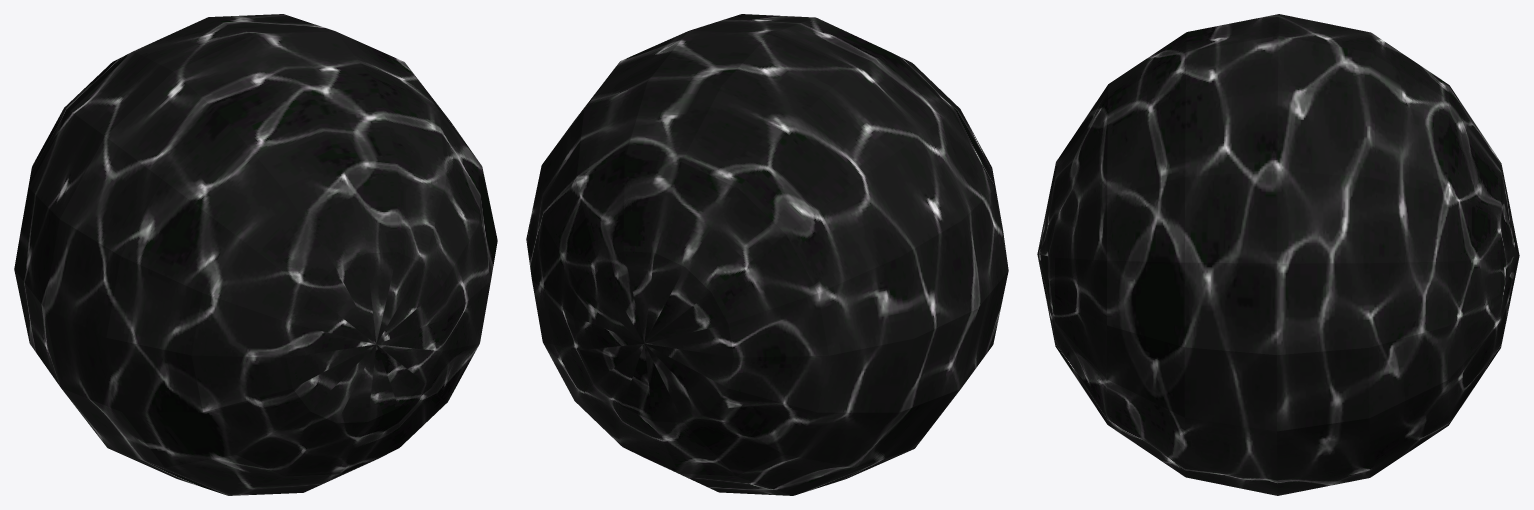
File: LightningTower_Bullet.FBX
3 renders of one model, left to right at view 1: azimuth 30°, elevation 25°; view 2: azimuth 150°, elevation 25°; view 3: azimuth 270°, elevation 25°, orthographic.
Parts seen in each view (by area): view 1: lightningTowerBall_SM; view 2: lightningTowerBall_SM; view 3: lightningTowerBall_SM.
Part boxes in pixels (box(x1,y1,x2,y2)): lightningTowerBall_SM: box(14, 14, 497, 495); lightningTowerBall_SM: box(526, 14, 1008, 495); lightningTowerBall_SM: box(1037, 14, 1519, 495).
Size of the model in its own units: 49.91 by 49.91 by 49.91.
